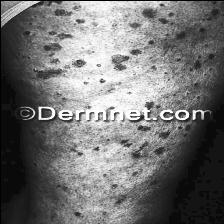Non-Cancerous Skin Condition: (45, 5, 222, 100), (67, 125, 189, 164), (31, 209, 105, 224)
